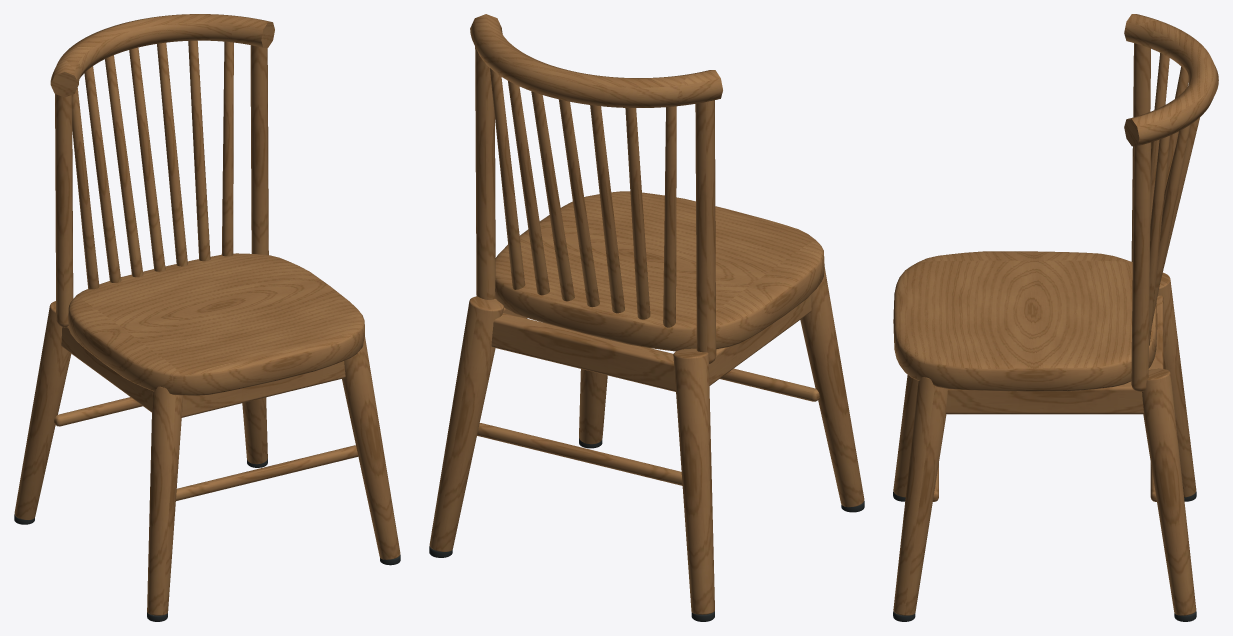
File: universal-windsor-dining-chair.glb
3 renders of one model, left to right at view 1: azimuth 30°, elevation 25°; view 2: azimuth 150°, elevation 25°; view 3: azimuth 270°, elevation 25°, orthographic. The views are drawn at different scales.
Visible parts, largest first — view 1: Oak | shaped saddle seat, Oak | curved Windsor crest, Frame | tapered leg, Frame | tapered leg.002, Frame | tapered leg.001, Oak | rear stile, Oak | rear stile.001, Frame | cross apron, Oak | turned back spindle.003, Oak | turned back spindle.004, Oak | turned back spindle.002, Oak | turned back spindle.005 (+7 smaller); view 2: Oak | shaped saddle seat, Oak | curved Windsor crest, Frame | tapered leg.001, Frame | tapered leg.003, Frame | cross apron.001, Frame | tapered leg, Oak | rear stile, Oak | rear stile.001, Oak | lower side tie.001, Oak | turned back spindle, Oak | turned back spindle.006, Oak | turned back spindle.005 (+7 smaller); view 3: Oak | shaped saddle seat, Frame | tapered leg.003, Frame | tapered leg.002, Oak | curved Windsor crest, Frame | side apron.001, Oak | rear stile.001, Frame | tapered leg.001, Oak | turned back spindle.006, Oak | turned back spindle.005, Frame | tapered leg, Oak | rear stile, Oak | turned back spindle (+3 smaller).
Boxes of the visible parts, x1,y1,x2,y2 form: Oak | shaped saddle seat: (68, 253, 364, 395); Oak | curved Windsor crest: (50, 14, 274, 97); Frame | tapered leg: (147, 386, 183, 615); Frame | tapered leg.002: (342, 337, 400, 559); Frame | tapered leg.001: (14, 301, 71, 519); Oak | rear stile: (55, 94, 73, 327); Oak | rear stile.001: (250, 45, 268, 254); Frame | cross apron: (181, 361, 345, 417); Oak | turned back spindle.003: (129, 47, 165, 271); Oak | turned back spindle.004: (157, 42, 187, 266); Oak | turned back spindle.002: (105, 55, 143, 277); Oak | turned back spindle.005: (188, 40, 210, 261); Oak | shaped saddle seat: (495, 191, 824, 351); Oak | curved Windsor crest: (470, 14, 722, 107); Frame | tapered leg.001: (673, 348, 714, 614); Frame | tapered leg.003: (429, 296, 504, 551); Frame | cross apron.001: (491, 313, 675, 391); Frame | tapered leg: (800, 267, 864, 507); Oak | rear stile: (695, 100, 716, 363); Oak | rear stile.001: (475, 46, 495, 299); Oak | lower side tie.001: (477, 423, 682, 485); Oak | turned back spindle: (663, 106, 676, 327); Oak | turned back spindle.006: (489, 68, 525, 289); Oak | turned back spindle.005: (508, 81, 549, 295); Oak | shaped saddle seat: (893, 251, 1157, 391); Frame | tapered leg.003: (1142, 368, 1196, 615); Frame | tapered leg.002: (893, 377, 947, 615); Oak | curved Windsor crest: (1124, 14, 1218, 146); Frame | side apron.001: (945, 381, 1143, 414); Oak | rear stile.001: (1131, 142, 1151, 391); Frame | tapered leg.001: (1157, 272, 1196, 497); Oak | turned back spindle.006: (1149, 135, 1169, 345); Oak | turned back spindle.005: (1151, 125, 1190, 325); Frame | tapered leg: (893, 375, 918, 497); Oak | rear stile: (1131, 43, 1150, 261); Oak | turned back spindle: (1150, 53, 1169, 223).
Bounding box in the file's own units: 0.552 × 0.975 × 0.586.
2 materials, 1 textured.
